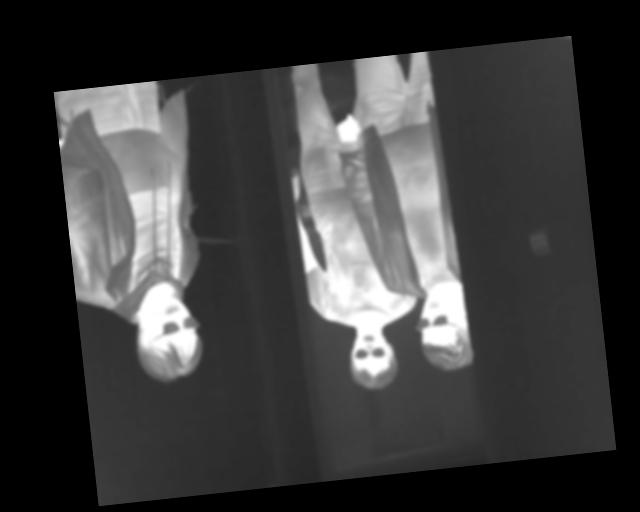face: (131, 293, 204, 387), (414, 285, 474, 374), (345, 323, 399, 393)
